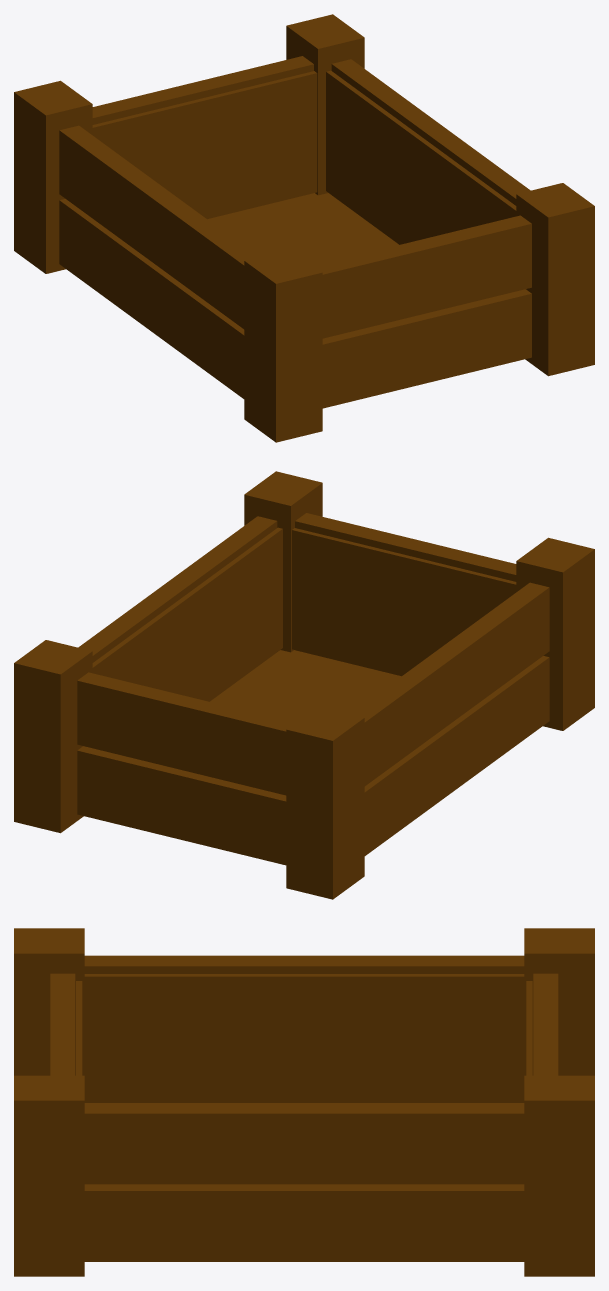
The model's file is crate.glb.
3 views of the same model, one above another, from view 1: azimuth 30°, elevation 25°; view 2: azimuth 150°, elevation 25°; view 3: azimuth 270°, elevation 25° (orthographic). The views are drawn at different scales.
Visible parts, largest first — view 1: large_walls, side_walls, floor; view 2: large_walls, side_walls, floor; view 3: large_walls, side_walls.
Part boxes in pixels (x1,y1,x2,y2): large_walls: [14, 14, 594, 442]; side_walls: [92, 56, 531, 408]; floor: [207, 193, 398, 265]; large_walls: [14, 471, 594, 899]; side_walls: [77, 513, 516, 865]; floor: [210, 650, 401, 722]; large_walls: [14, 928, 594, 1276]; side_walls: [50, 973, 558, 1075].
Bounding box in the file's own units: 1.57 × 0.7463 × 2.23.
